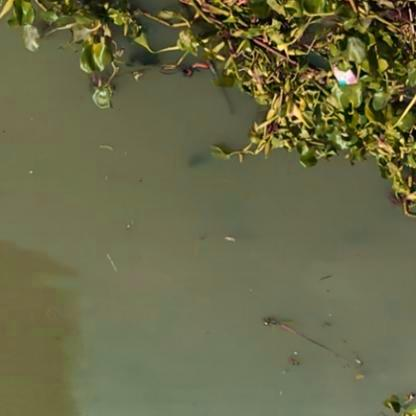Trash: (324, 51, 358, 94)
